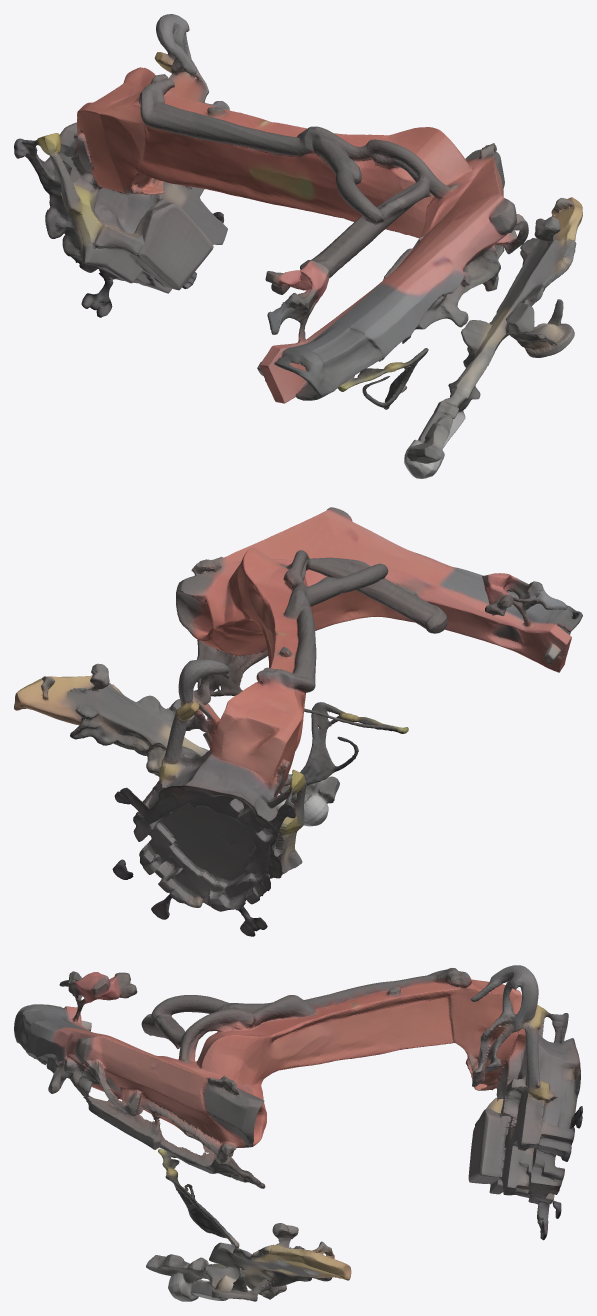
File: entity-robot-photo-2.glb
3 views of the same model, one above another, from view 1: azimuth 30°, elevation 25°; view 2: azimuth 150°, elevation 25°; view 3: azimuth 270°, elevation 25° (orthographic). The views are drawn at different scales.
Parts seen in each view (by area): view 1: geometry_0; view 2: geometry_0; view 3: geometry_0.
Boxes of the visible parts, x1,y1,x2,y2 form: geometry_0: (14, 14, 582, 478); geometry_0: (14, 507, 582, 936); geometry_0: (14, 965, 582, 1301).
Size of the model in its own units: 3.48 by 2.42 by 4.12.
